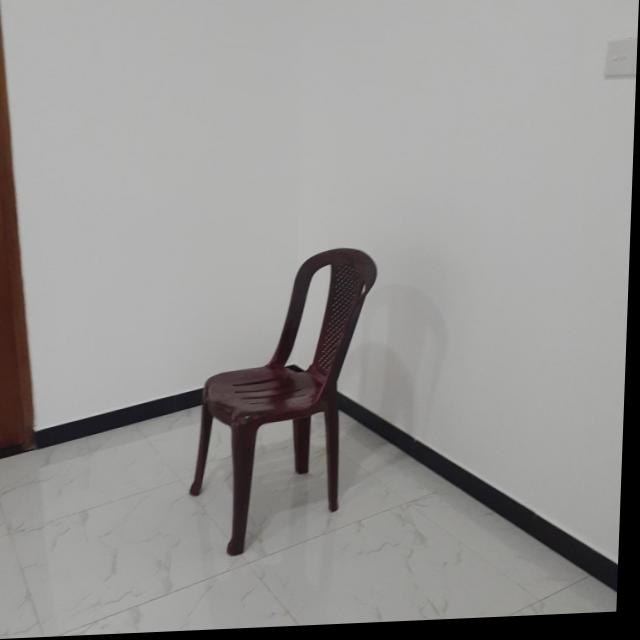Chair: (191, 249, 381, 561)
